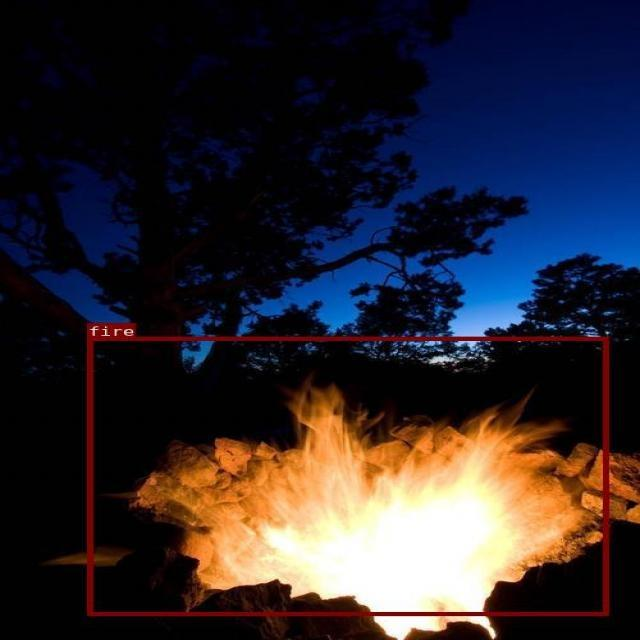fire: (86, 337, 608, 615)
